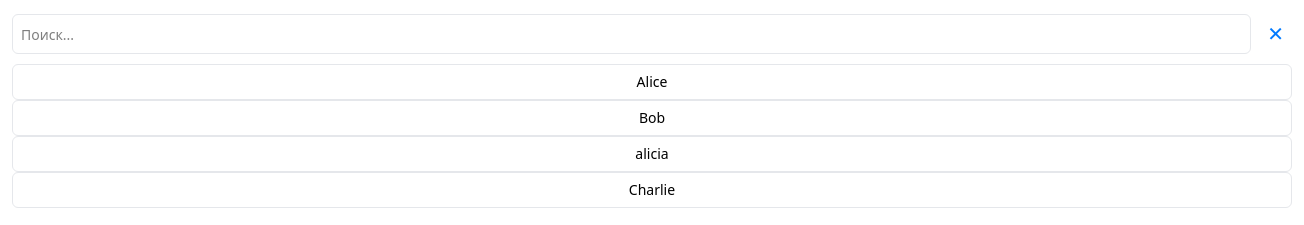
Scenario: UserSearch - filtering logic › shows no user results when the query matches nothing
The image size is (1304, 225).
In the field with placeholder "Поиск...": (632, 34) x1=12 y1=14 x2=1251 y2=54, type "zzz-not-a-match"
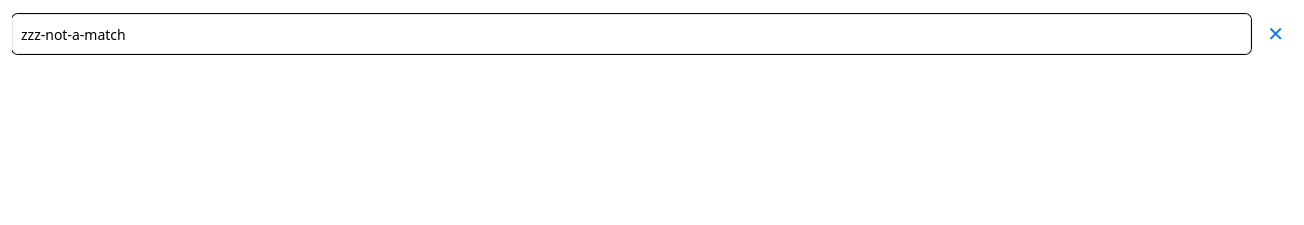
Now the button "Alice" is gone
Now the button "Bob" is gone
Now the button "alicia" is gone
